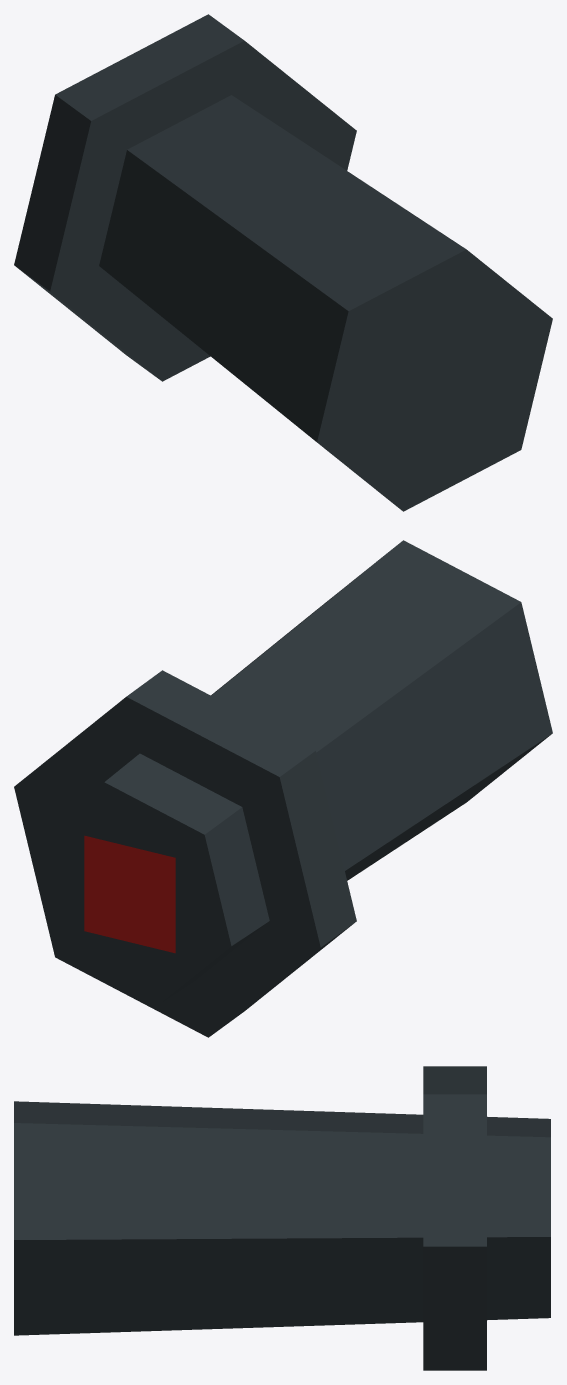
The picture shows the model from 3 angles, top to bottom: view 1: azimuth 30°, elevation 25°; view 2: azimuth 150°, elevation 25°; view 3: azimuth 270°, elevation 25°; orthographic projection. The views are drawn at different scales.
Parts seen in each view (by area): view 1: mount; view 2: mount; view 3: mount.
Boxes of the visible parts, x1,y1,x2,y2 form: mount: (14, 14, 552, 511); mount: (14, 540, 552, 1037); mount: (14, 1066, 550, 1370).
Bounding box in the file's own units: 4.9 × 4.9 × 8.43.
